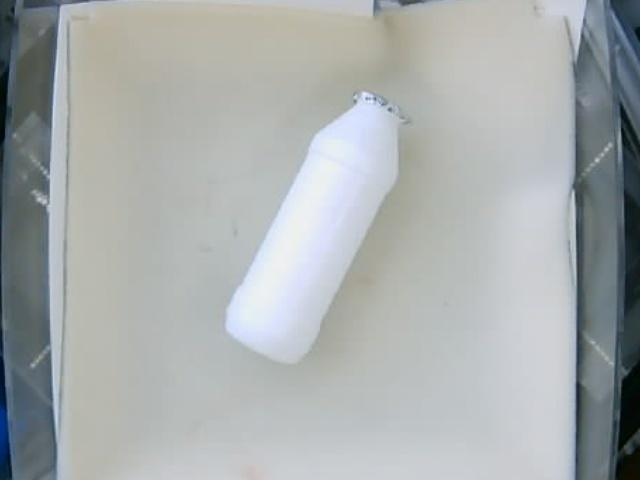Bottle: (226, 90, 413, 362)
